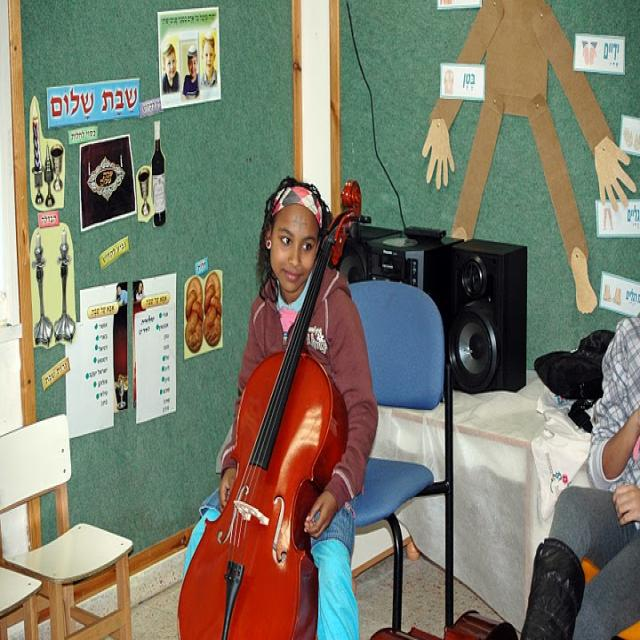cello: (179, 178, 364, 640)
